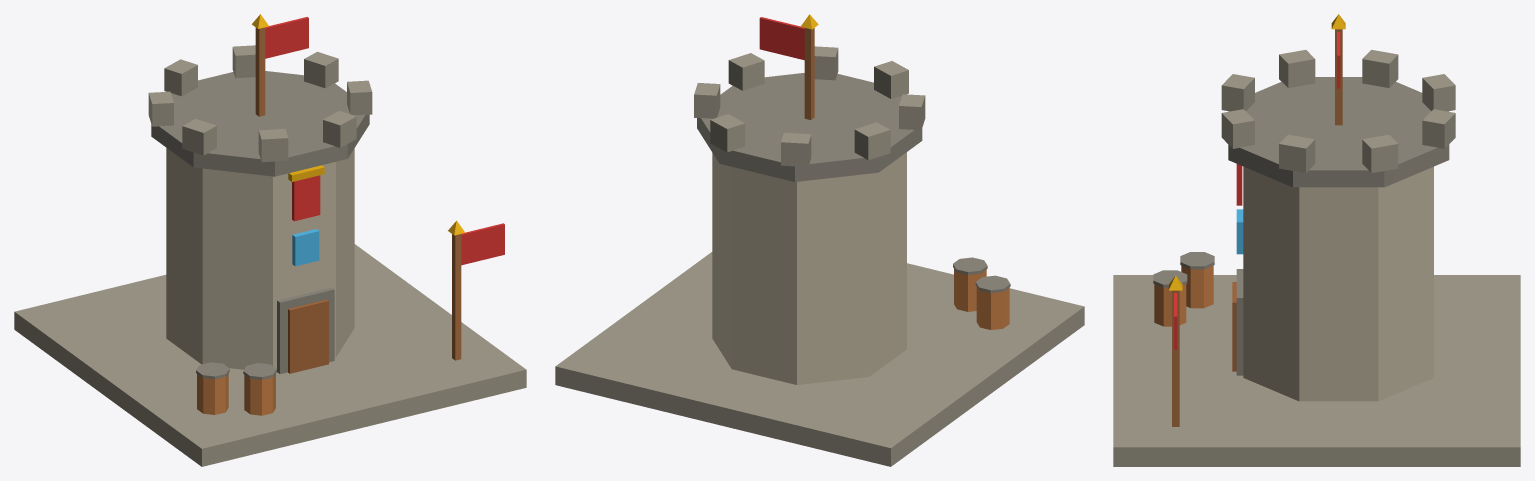
File: defense_tower_t2_v1.glb
The picture shows the model from 3 angles, left to right: view 1: azimuth 30°, elevation 25°; view 2: azimuth 150°, elevation 25°; view 3: azimuth 270°, elevation 25°; orthographic projection. The views are drawn at different scales.
Visible parts, largest first — view 1: defense_tower_t2_v1; view 2: defense_tower_t2_v1; view 3: defense_tower_t2_v1.
Part boxes in pixels (bbox=[...]): defense_tower_t2_v1: bbox=[14, 14, 526, 466]; defense_tower_t2_v1: bbox=[555, 14, 1084, 466]; defense_tower_t2_v1: bbox=[1113, 14, 1520, 466].
Bounding box in the file's own units: 0.765 × 0.745 × 0.75.
Materials: 1 (1 with a texture image).
